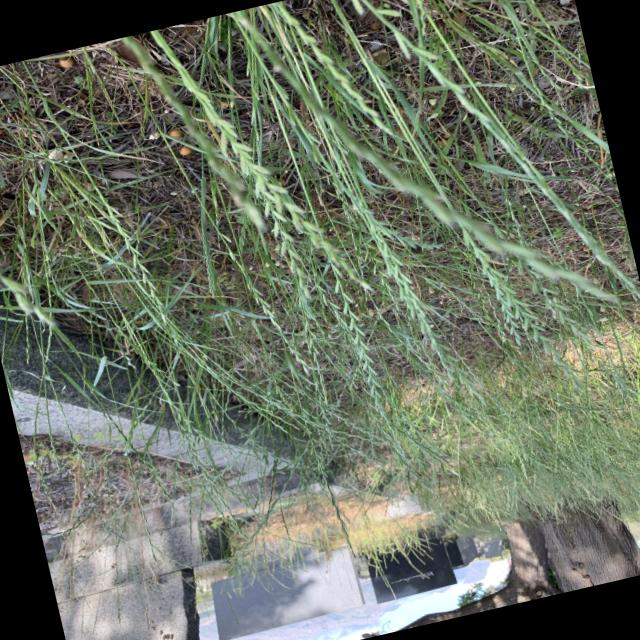Lolium: (0, 0, 640, 640), (281, 0, 579, 431), (51, 61, 310, 468), (123, 0, 377, 336), (385, 0, 634, 334), (241, 0, 455, 382), (23, 135, 202, 512)
